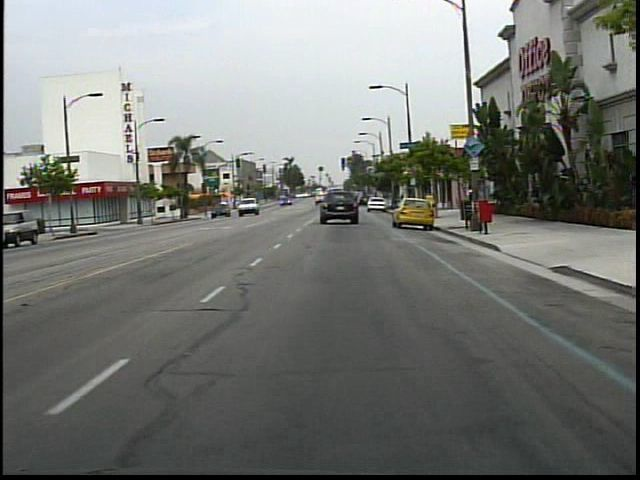person: (463, 185, 484, 221)
